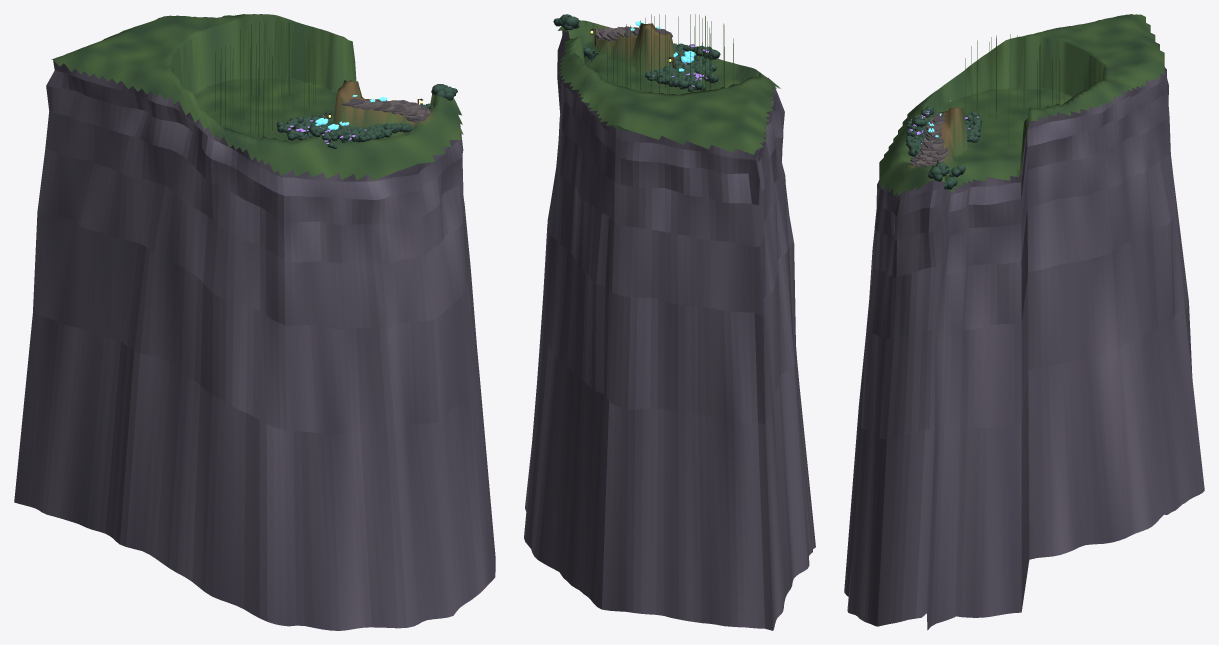
The model's file is terrace_base.glb.
3 views of the same model, side by side, from view 1: azimuth 30°, elevation 25°; view 2: azimuth 150°, elevation 25°; view 3: azimuth 270°, elevation 25° (orthographic). The views are drawn at different scales.
Visible parts, largest first — view 1: hero_terrace_rock, hero_terrace_ground, hero_terrace_leaf, hero_terrace_flag; view 2: hero_terrace_rock, hero_terrace_ground, hero_terrace_leaf, hero_terrace_flag; view 3: hero_terrace_rock, hero_terrace_ground, hero_terrace_leaf, hero_terrace_flag.
Part boxes in pixels (left/top/right/bottom): hero_terrace_rock: left=14, top=60, right=495, bottom=630; hero_terrace_ground: left=51, top=14, right=463, bottom=180; hero_terrace_leaf: left=215, top=21, right=457, bottom=148; hero_terrace_flag: left=342, top=98, right=430, bottom=122; hero_terrace_rock: left=524, top=30, right=815, bottom=630; hero_terrace_ground: left=558, top=20, right=780, bottom=154; hero_terrace_leaf: left=553, top=14, right=733, bottom=94; hero_terrace_flag: left=595, top=26, right=672, bottom=41; hero_terrace_rock: left=844, top=67, right=1204, bottom=630; hero_terrace_ground: left=879, top=14, right=1164, bottom=195; hero_terrace_leaf: left=905, top=34, right=1064, bottom=189; hero_terrace_flag: left=910, top=113, right=947, bottom=167.
Size of the model in its own units: 57.46 by 86.08 by 53.93.
